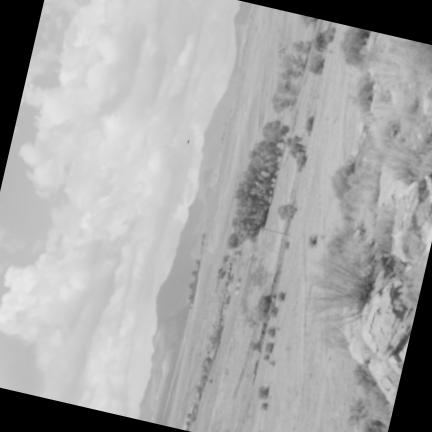Shahed: (187, 137, 190, 143)
